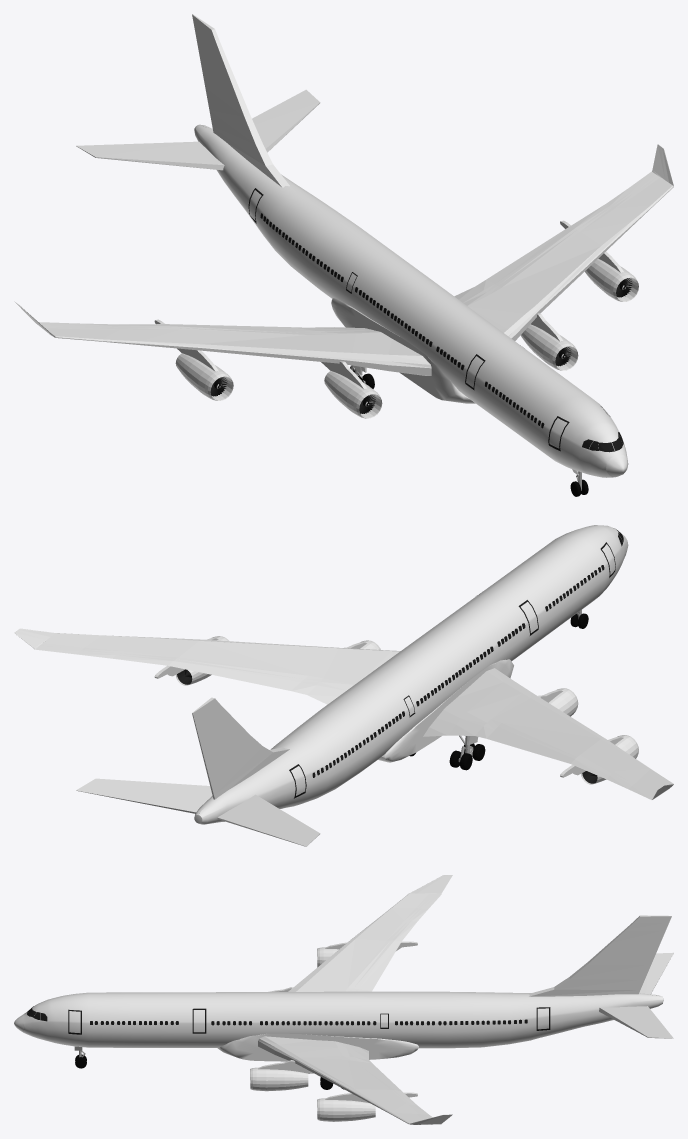
3 views of the same model, one above another, from view 1: azimuth 30°, elevation 25°; view 2: azimuth 150°, elevation 25°; view 3: azimuth 270°, elevation 25° (orthographic). The views are drawn at different scales.
Visible parts, largest first — view 1: New_Game_Object_MaterialStandart__Instance__0 (×4); view 2: New_Game_Object_MaterialStandart__Instance__0 (×4); view 3: New_Game_Object_MaterialStandart__Instance__0 (×3).
Part boxes in pixels (x1,y1,x2,y2): New_Game_Object_MaterialStandart__Instance__0 (×4): (14,14,673,477); New_Game_Object_MaterialStandart__Instance__0 (×4): (14,525,673,846); New_Game_Object_MaterialStandart__Instance__0 (×3): (14,875,673,1124).
Bounding box in the file's own units: 54.76 × 16.08 × 63.69.
7 materials, 1 textured.
